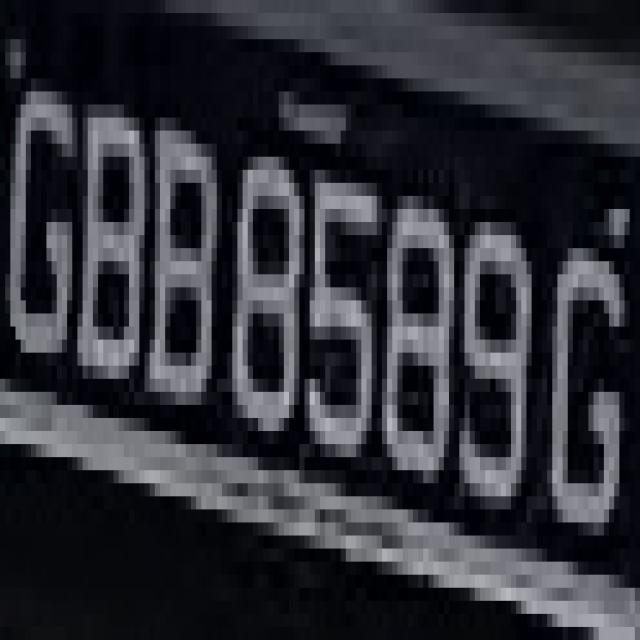5: (289, 131, 392, 483)
8: (212, 118, 314, 457), (382, 157, 459, 536)
9: (449, 183, 532, 614)
B: (62, 92, 150, 444), (150, 65, 222, 431)
G: (547, 169, 630, 562), (0, 26, 77, 418)
